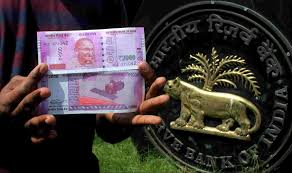twoThousand: (46, 36, 139, 65)
